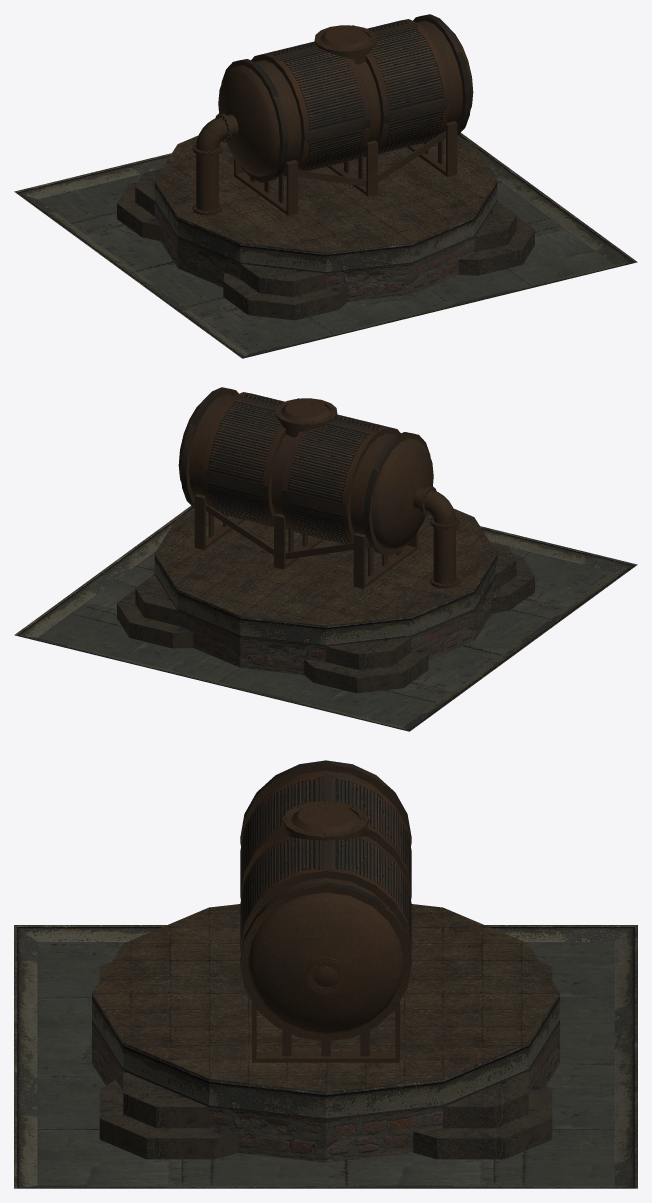
Rendered from structure_piece_rg_2.obj.
3 renders of one model, top to bottom at view 1: azimuth 30°, elevation 25°; view 2: azimuth 150°, elevation 25°; view 3: azimuth 270°, elevation 25°, orthographic. The views are drawn at different scales.
Parts seen in each view (by area): view 1: structure_piece_rg_2, boiler_hx_2; view 2: structure_piece_rg_2, boiler_hx_2; view 3: structure_piece_rg_2, boiler_hx_2.
Part boxes in pixels (bbox=[...]): structure_piece_rg_2: bbox=[14, 133, 637, 358]; boiler_hx_2: bbox=[192, 14, 473, 215]; structure_piece_rg_2: bbox=[14, 506, 637, 731]; boiler_hx_2: bbox=[178, 387, 459, 588]; structure_piece_rg_2: bbox=[14, 904, 637, 1188]; boiler_hx_2: bbox=[240, 760, 411, 1062].
Bounding box in the file's own units: 8 × 3.7 × 8.
